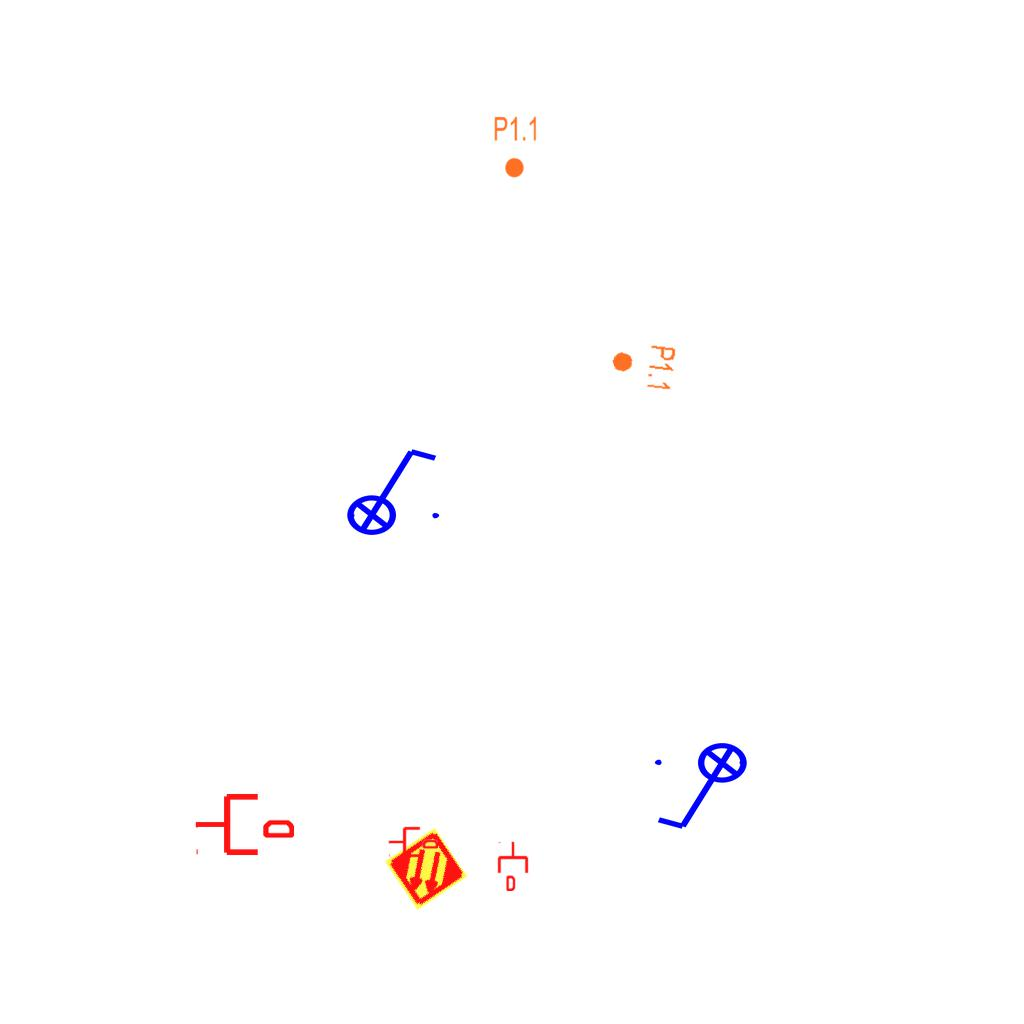ASR_Ansaugrauchmelder: (382, 825, 470, 913)
Ausschalter_beleuchtet: (333, 441, 445, 537), (649, 741, 761, 837)
Datenanschluss_einfach: (194, 790, 294, 859), (496, 841, 530, 891), (388, 825, 438, 859)
Downlight_LED_Einbauleuchten_Flur: (608, 339, 678, 393), (493, 115, 539, 179)
